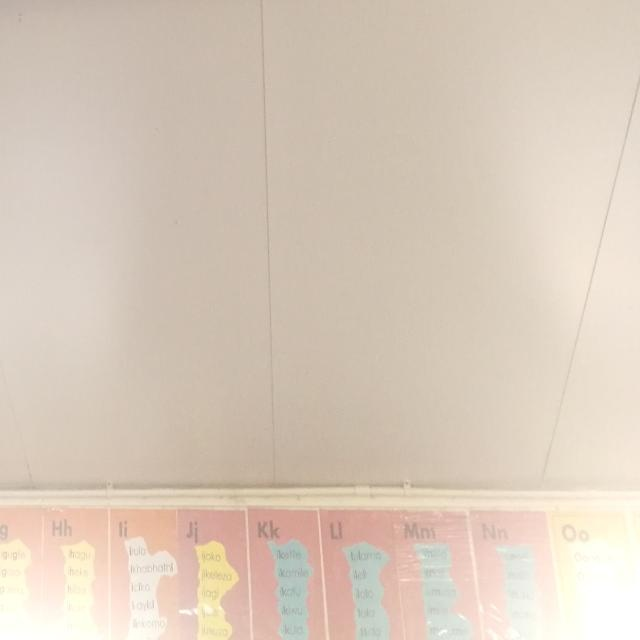fluorescent tube: (0, 0, 418, 83)
